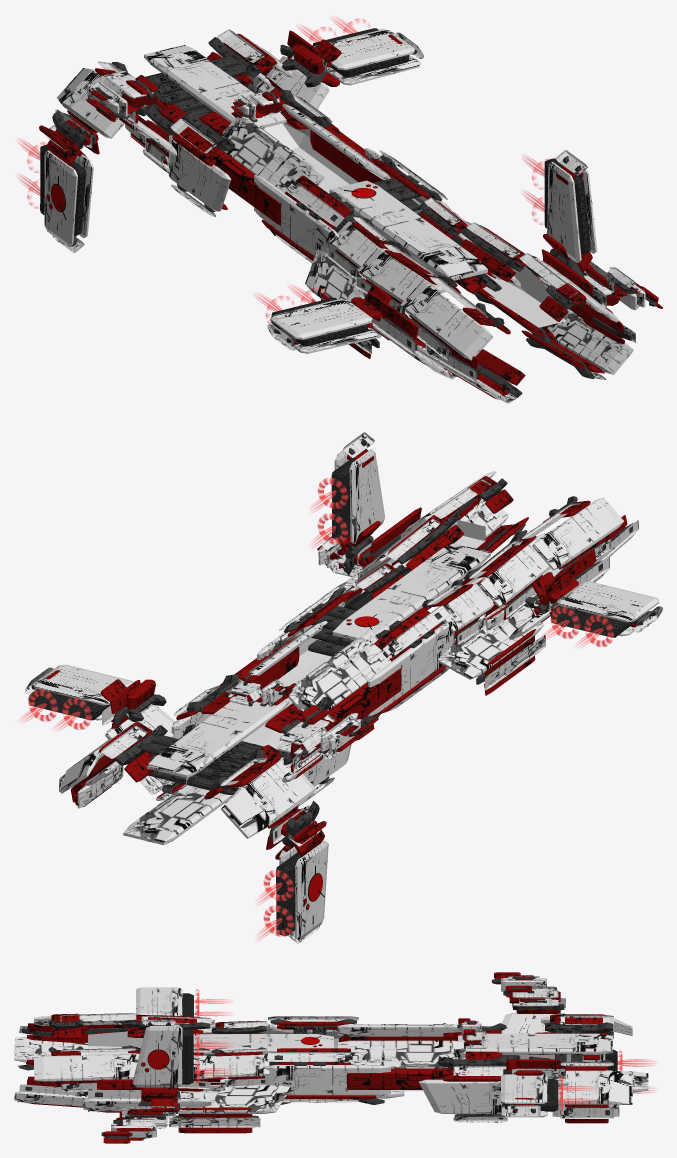
Rendered from hephaestus.gltf.
3 renders of one model, top to bottom at view 1: azimuth 30°, elevation 25°; view 2: azimuth 150°, elevation 25°; view 3: azimuth 270°, elevation 25°, orthographic. The views are drawn at different scales.
Parts seen in each view (by area): view 1: base_multi_glow, glow_jet; view 2: base_multi_glow, glow_jet; view 3: base_multi_glow, glow_jet.
Boxes of the visible parts, bbox=[...] form: base_multi_glow: bbox=[39, 28, 662, 403]; glow_jet: bbox=[17, 17, 549, 323]; base_multi_glow: bbox=[25, 432, 662, 943]; glow_jet: bbox=[20, 478, 613, 940]; base_multi_glow: bbox=[14, 972, 648, 1143]; glow_jet: bbox=[193, 989, 655, 1113].
Bounding box in the file's own units: 5.03 × 3.02 × 9.85.
9 materials, 6 textured.
